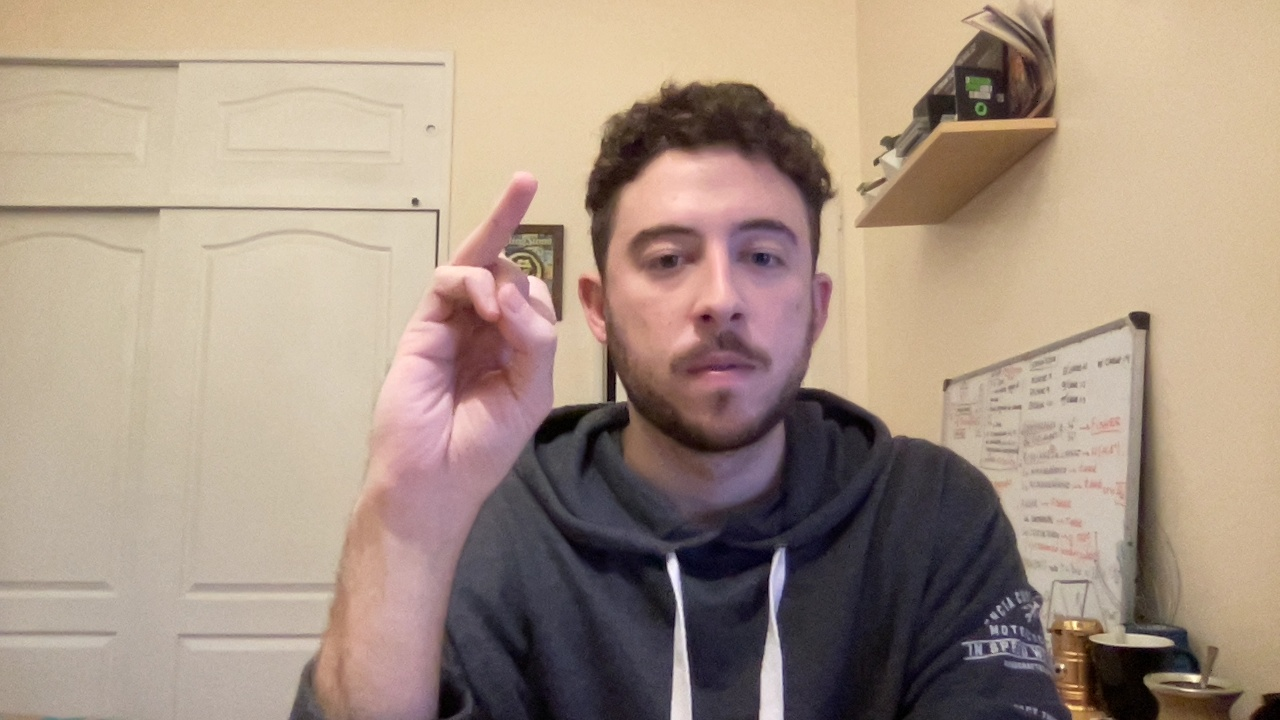anular: (359, 162, 582, 510)
